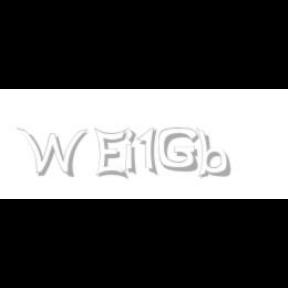1: (136, 128, 158, 176)
E: (94, 128, 128, 180)
G: (158, 128, 198, 172)
W: (16, 128, 88, 178)
b: (196, 128, 234, 178)
i: (124, 128, 140, 176)
